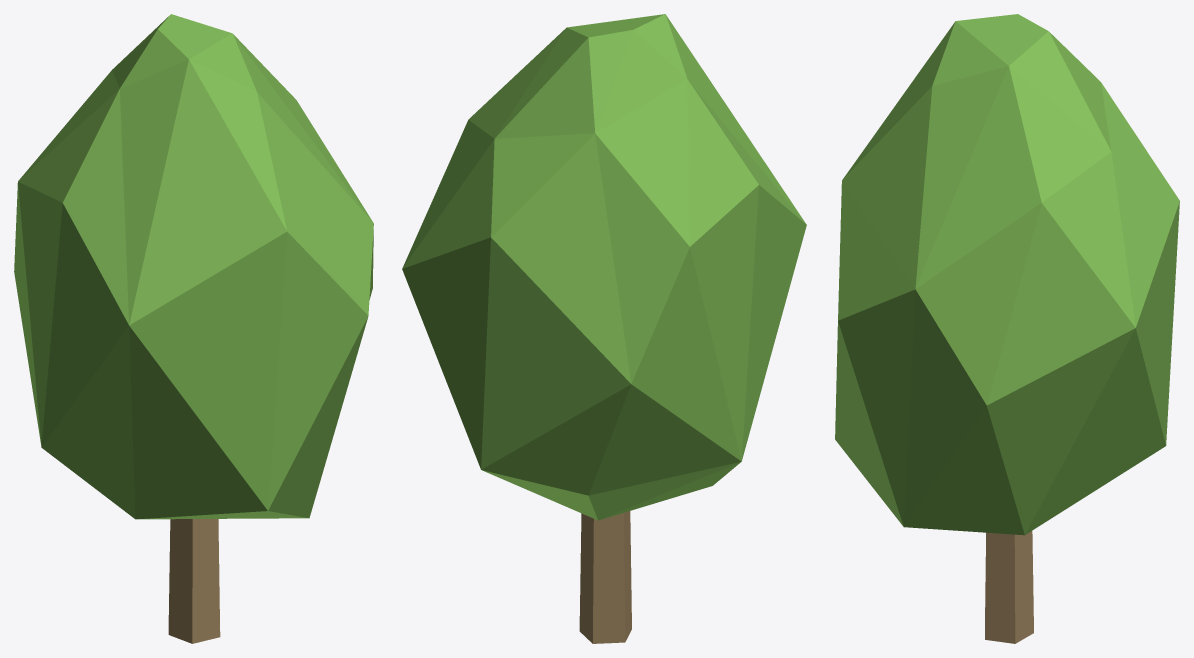
The model's file is Thuja_Tree_s_04_LOD.fbx.
The picture shows the model from 3 angles, left to right: view 1: azimuth 30°, elevation 25°; view 2: azimuth 150°, elevation 25°; view 3: azimuth 270°, elevation 25°; orthographic projection. The views are drawn at different scales.
Visible parts, largest first — view 1: Thuja_Tree_s_04_LOD0; view 2: Thuja_Tree_s_04_LOD0; view 3: Thuja_Tree_s_04_LOD0.
Boxes of the visible parts, <box> form: Thuja_Tree_s_04_LOD0: <box>14,14,373,643</box>; Thuja_Tree_s_04_LOD0: <box>402,14,806,643</box>; Thuja_Tree_s_04_LOD0: <box>835,14,1179,643</box>.
Size of what is drawn, in the model's own units: 146 by 273 by 141.
